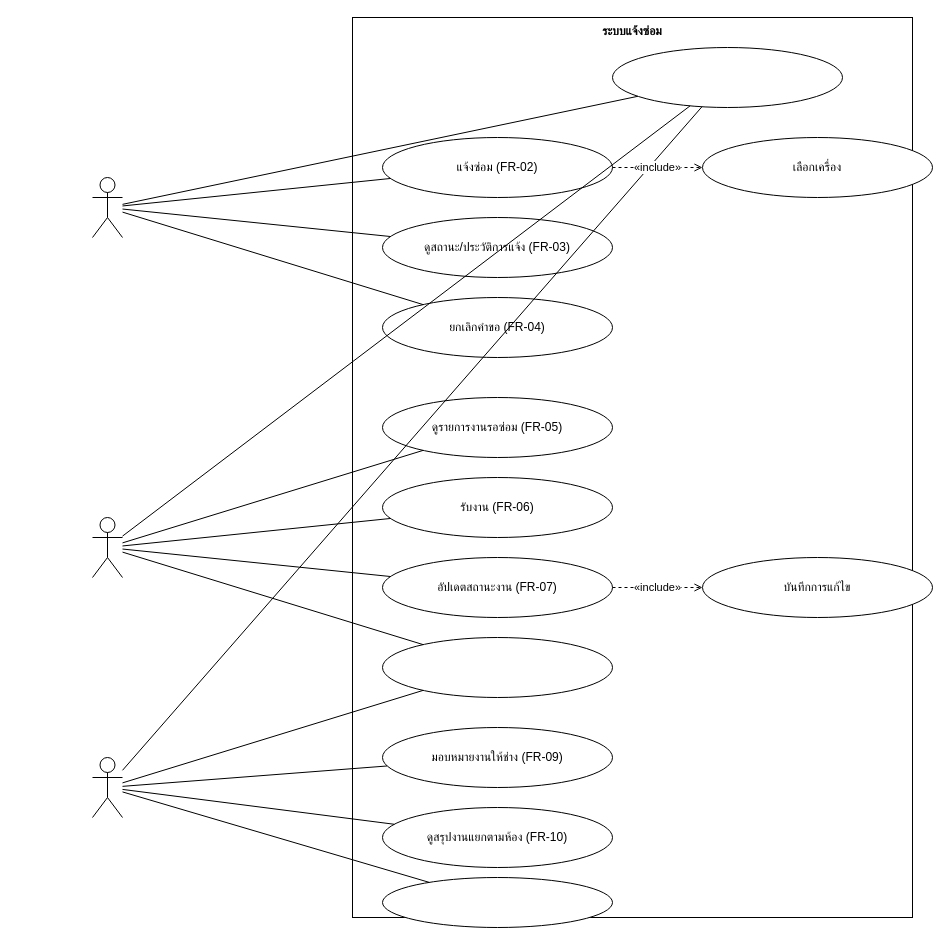
This 950x945 diagram has some shape labels left out. Each missing label, with the box of its shape:
จัดการข้อมูลห้องและเครื่อง (FR-11): (382, 876, 612, 928)
ช่างเทคนิค: (92, 516, 122, 578)
ดูประวัติซ่อมของเครื่อง (FR-08): (382, 636, 612, 698)
ผู้แจ้ง (นักศึกษา/ครู): (92, 176, 122, 238)
หัวหน้างานอาคารสถานที่ และคอมพิวเตอร์: (92, 756, 122, 818)
เข้าสู่ระบบ: (612, 46, 842, 108)
